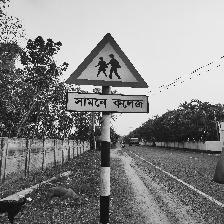College-in-front: (52, 26, 172, 144)
